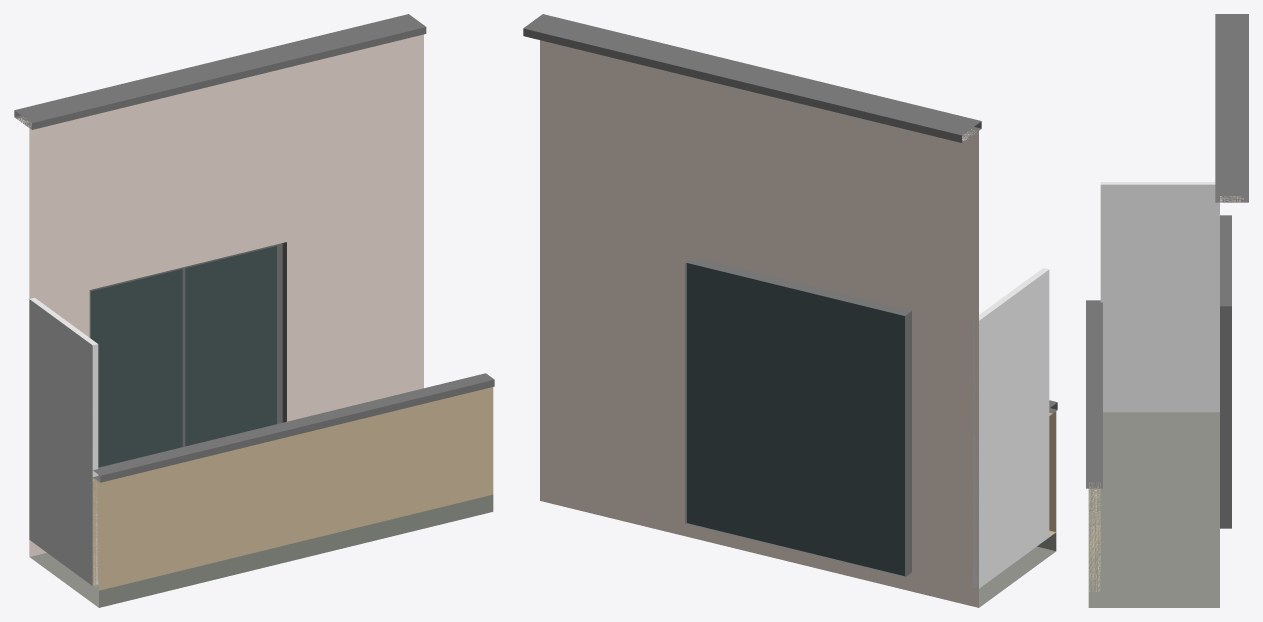
File: top-w1.fbx
The picture shows the model from 3 angles, left to right: view 1: azimuth 30°, elevation 25°; view 2: azimuth 150°, elevation 25°; view 3: azimuth 270°, elevation 25°; orthographic projection. The views are drawn at different scales.
Visible parts, largest first — view 1: a2001/200/top-w1; view 2: a2001/200/top-w1; view 3: a2001/200/top-w1.
Part boxes in pixels (left/top/right/bottom): a2001/200/top-w1: left=14, top=14, right=494, bottom=607; a2001/200/top-w1: left=523, top=14, right=1057, bottom=607; a2001/200/top-w1: left=1086, top=14, right=1248, bottom=607.
Size of the model in its own units: 3.6 by 3.8 by 1.36.
